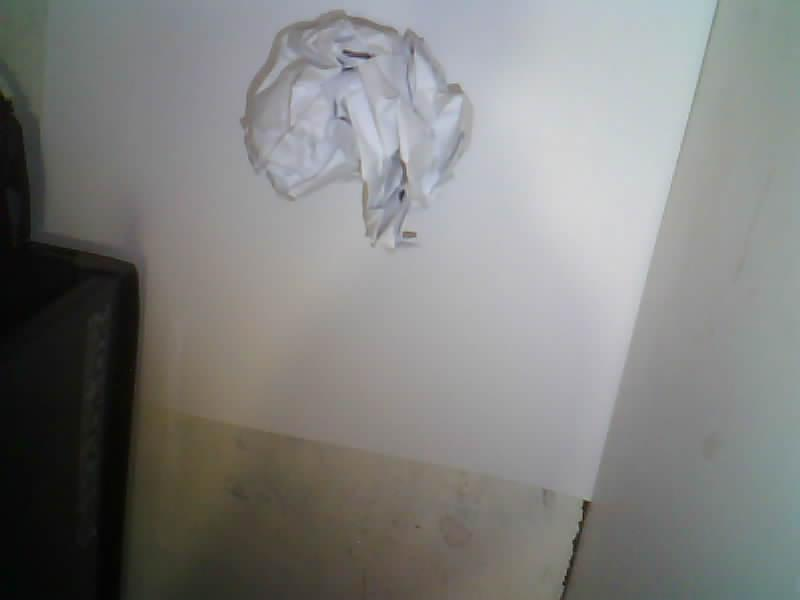biodegradable: (242, 11, 470, 247)
